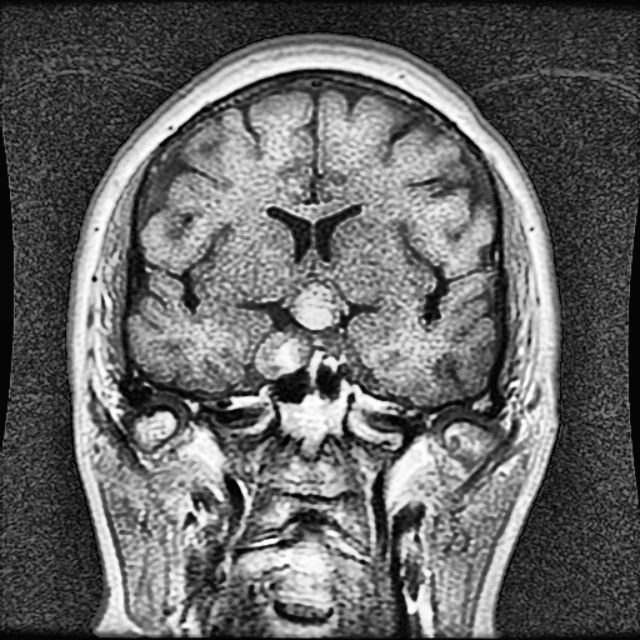Pituitary: (254, 284, 344, 375)
